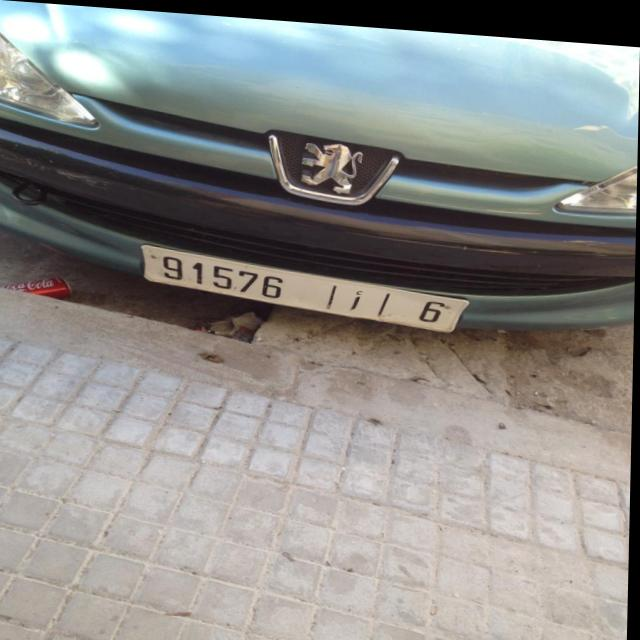License-Plate: (143, 243, 470, 325)
